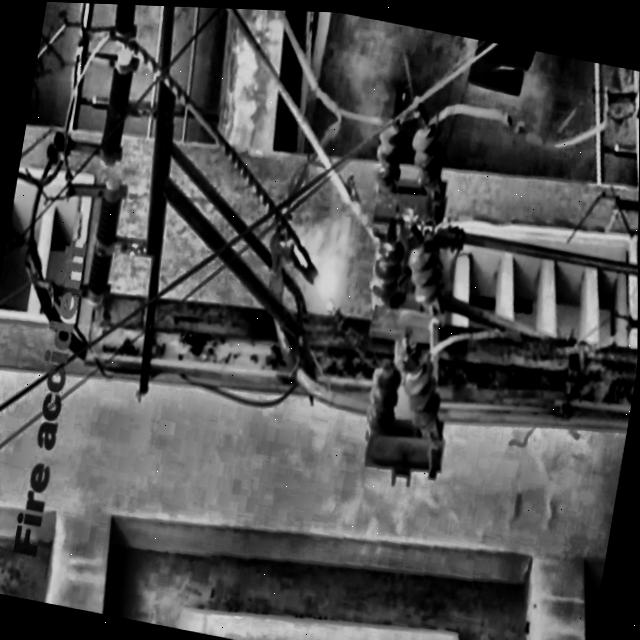Fire: (291, 230, 357, 322)
